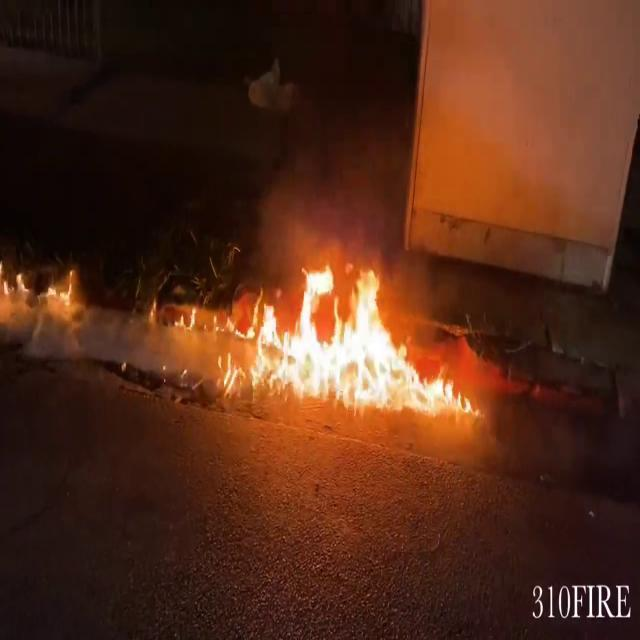Fire: (224, 252, 472, 412)
